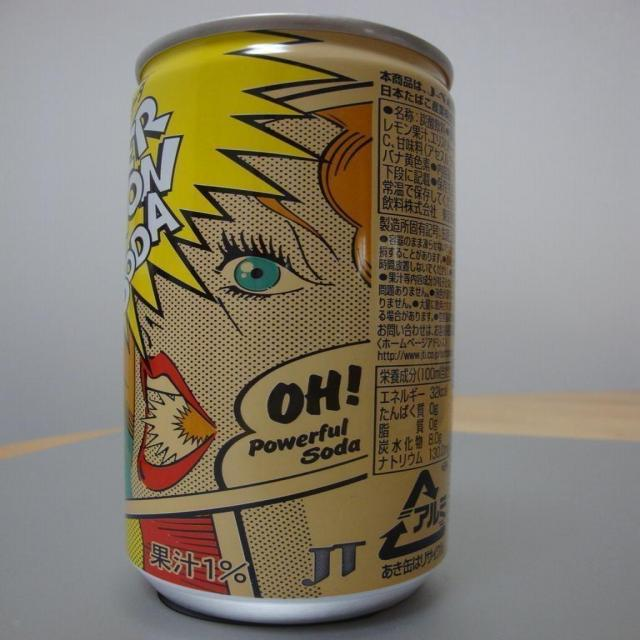tin can: (121, 9, 463, 630)
